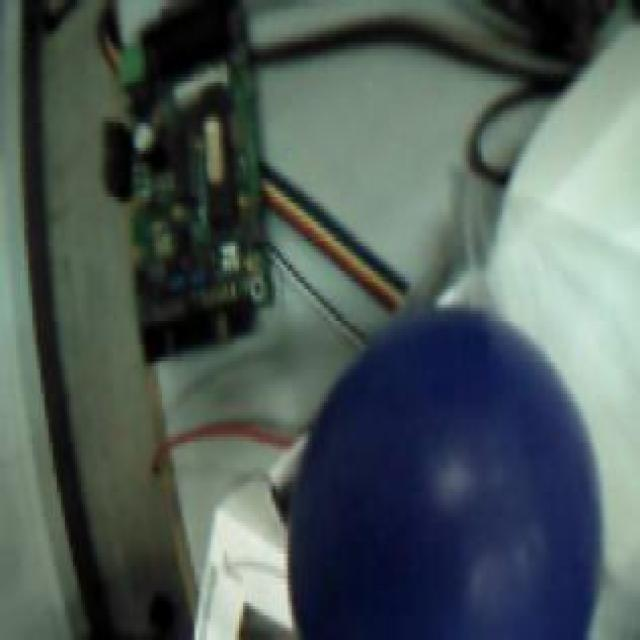BallPurple: (289, 307, 603, 640)
